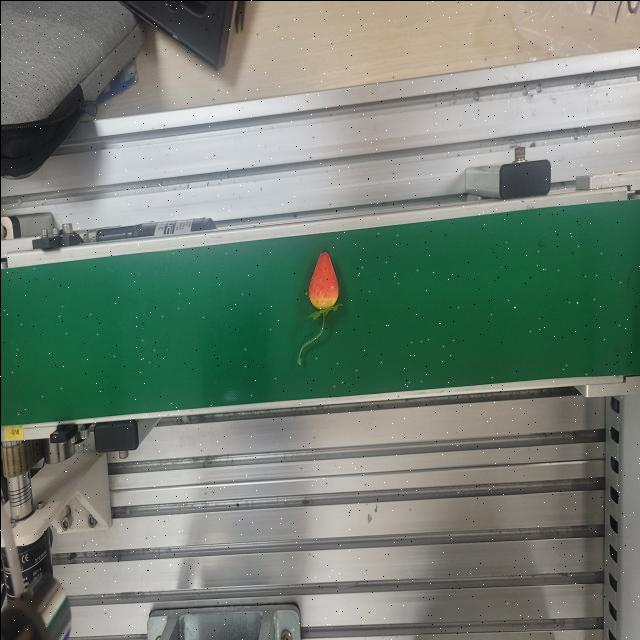Small Unripe Strawberry: (295, 248, 343, 368)
conveyor: (0, 182, 639, 436)
